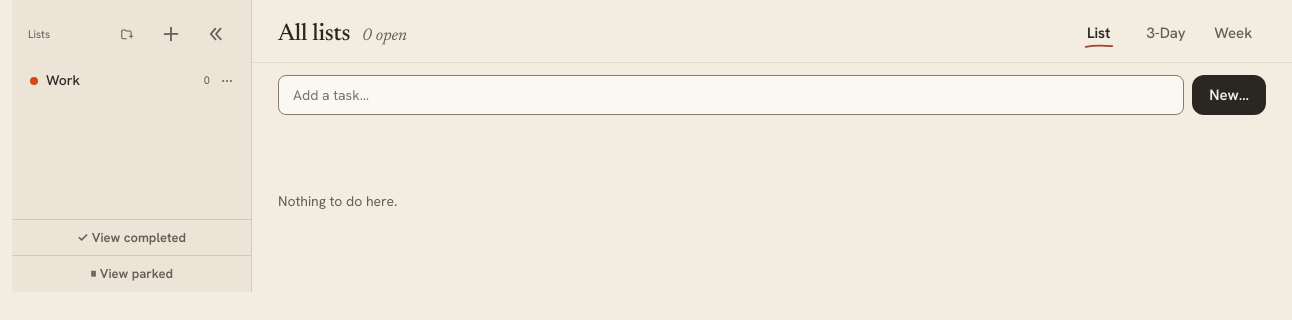
Test: aug19 stage 4b — the Completed pane and a RELATED-TO ring › shows a completed ring of three the same way
Click the button "✓ View completed". click: (132, 237)
box: [12,219,251,255]
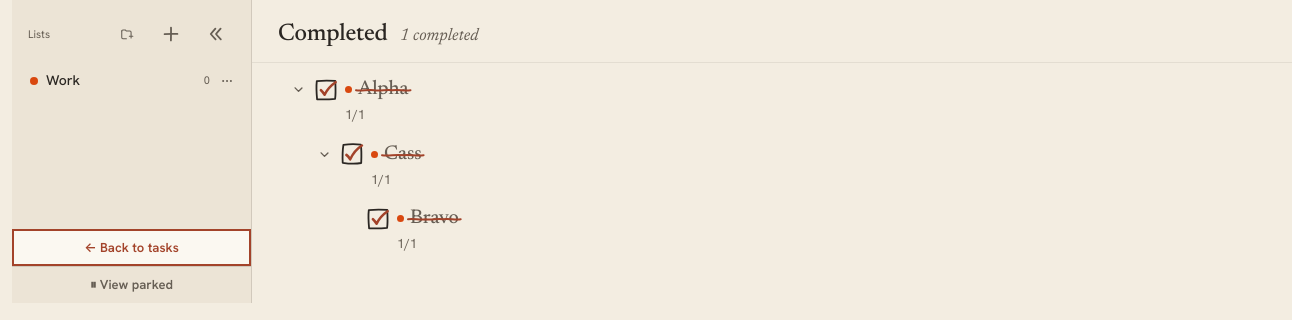
Result: the text "Alpha" is shown once at [345,77,1266,102]
Result: the text "Bravo" is shown once at [397,206,1266,231]
Result: the text "Cass" is shown once at [371,142,1266,166]
